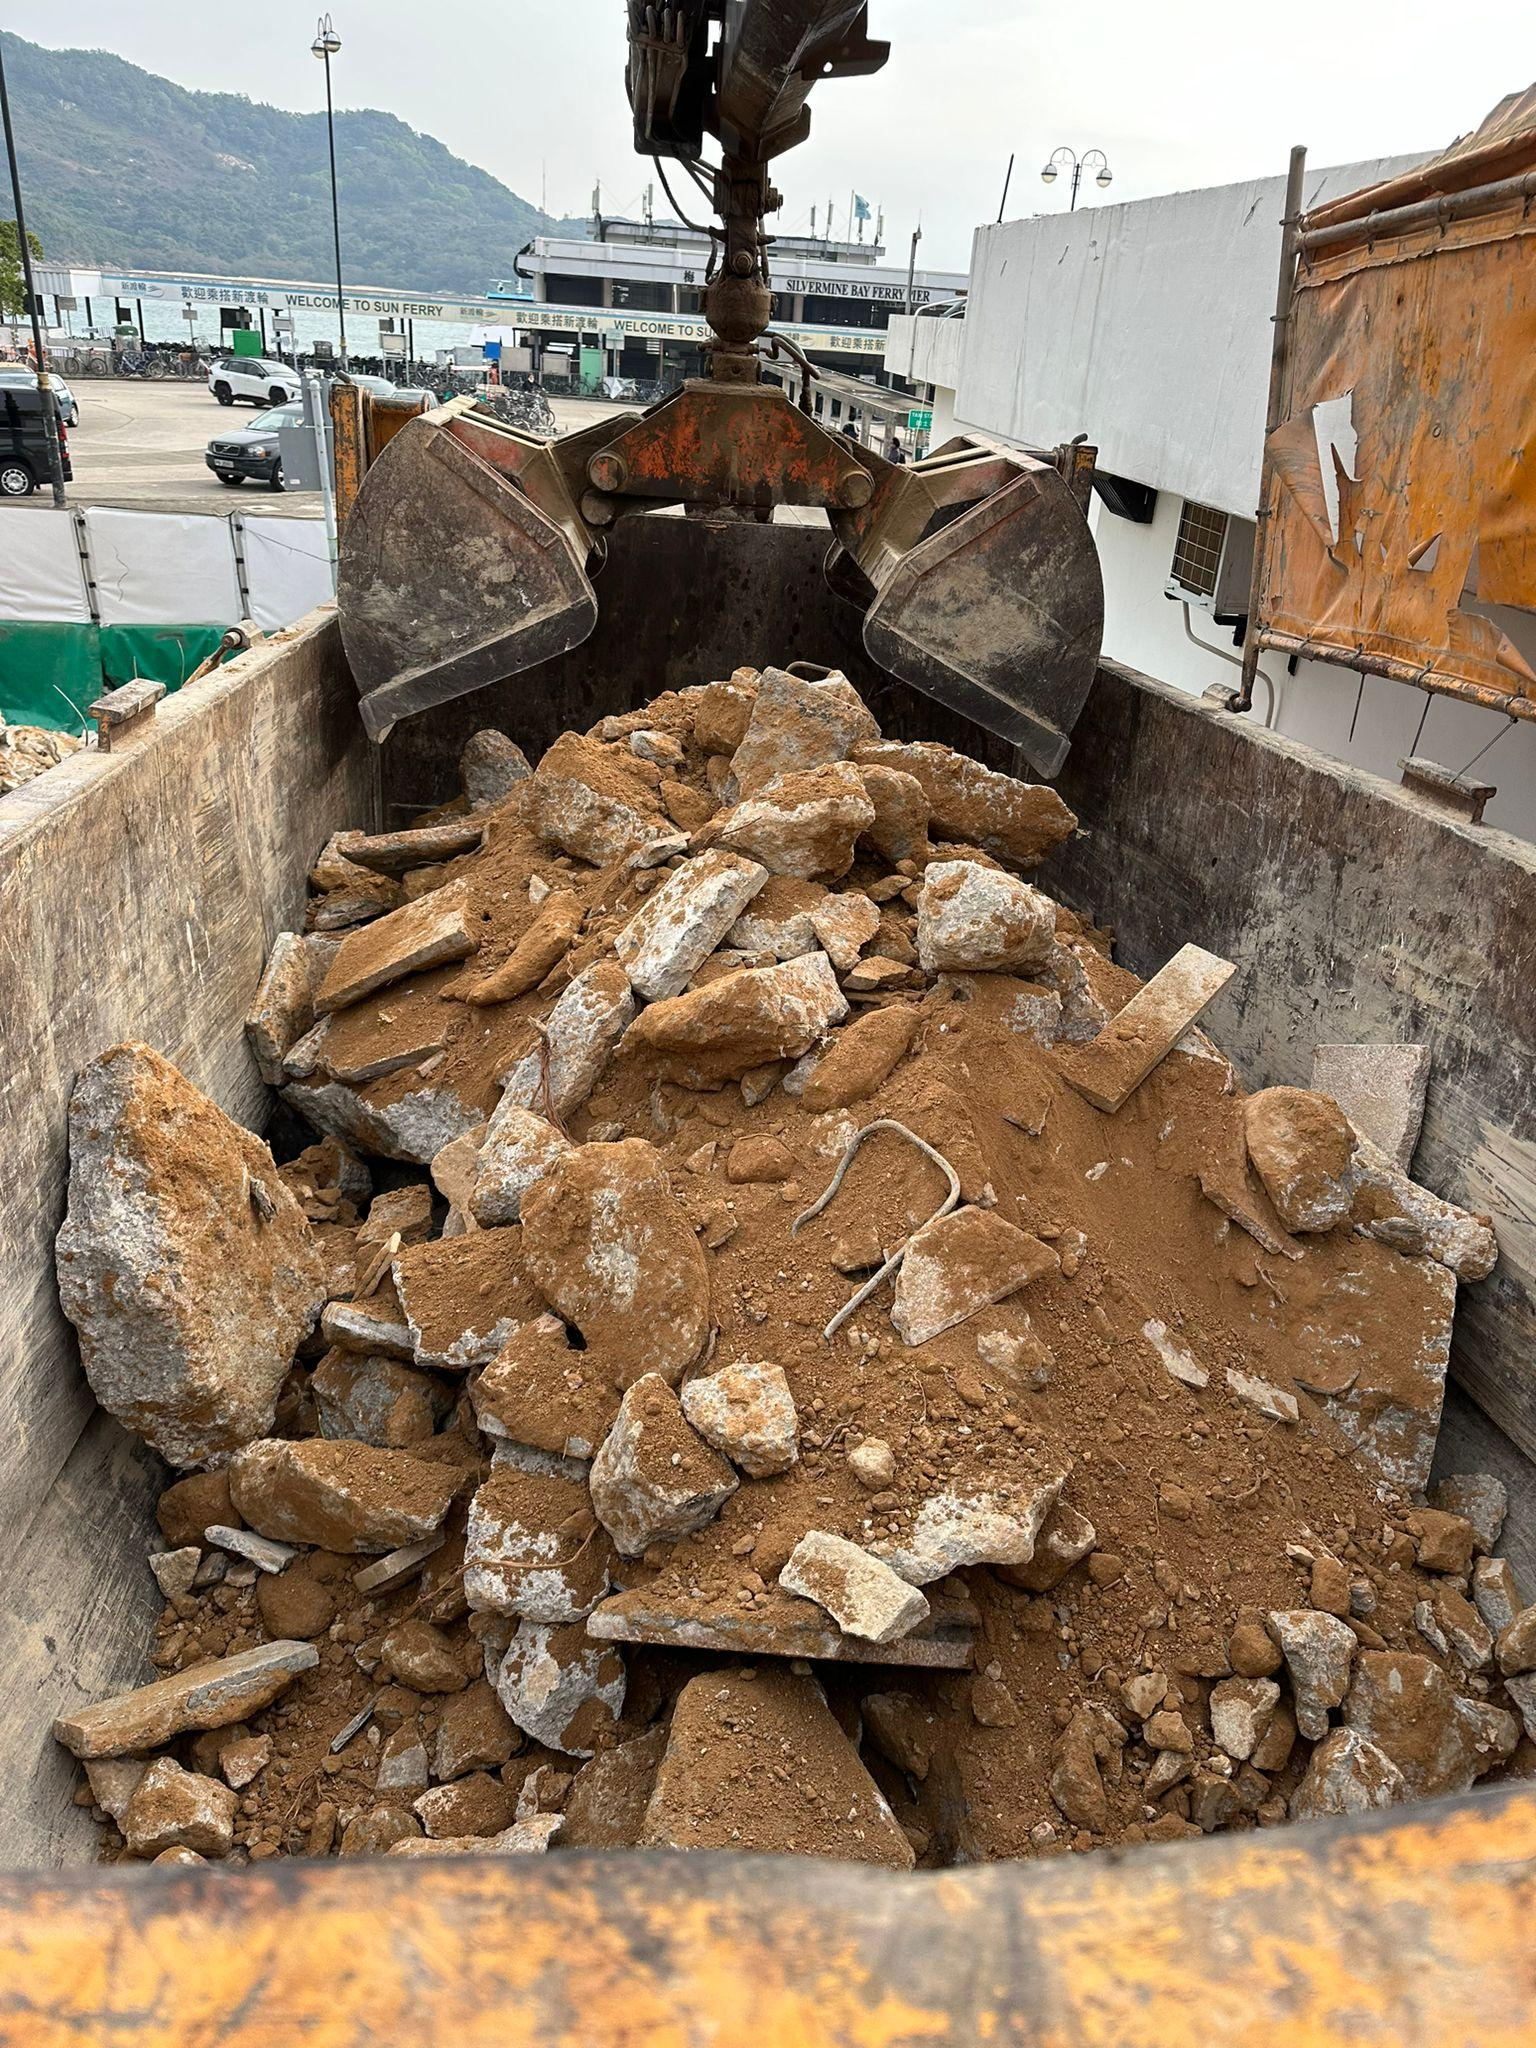dry: (116, 703, 1507, 1813)
